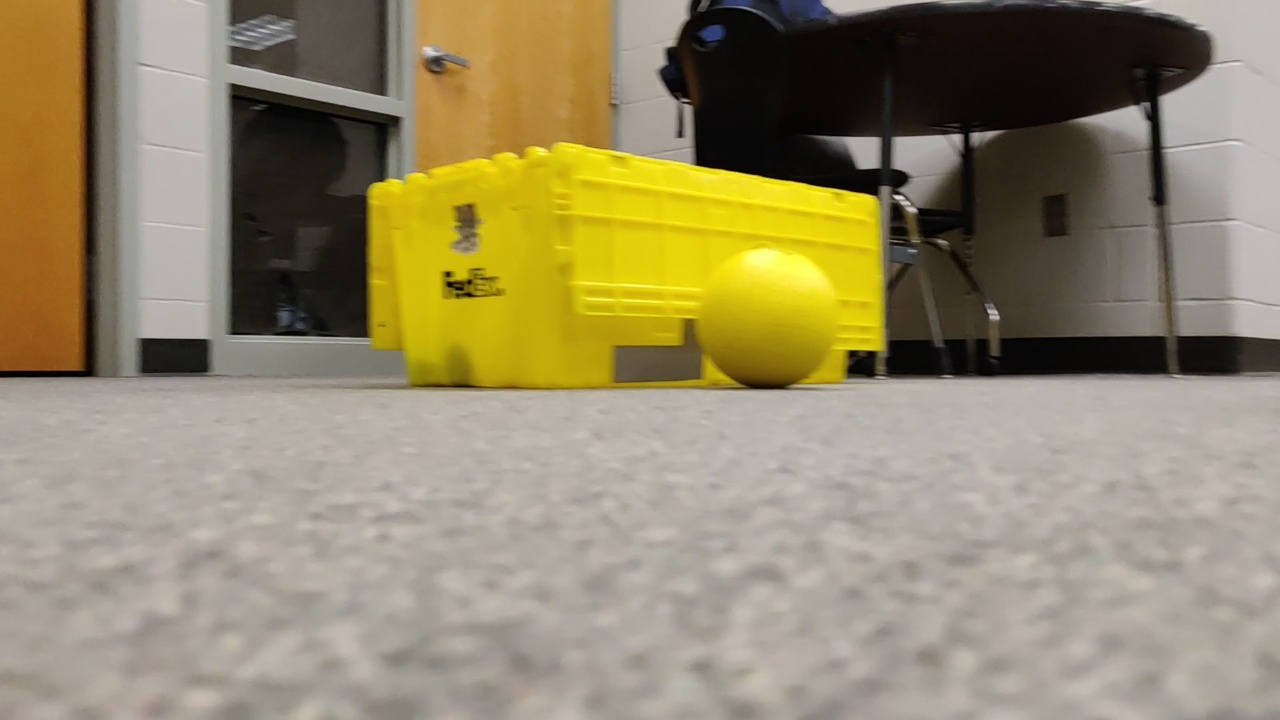Ball: (692, 240, 833, 397)
